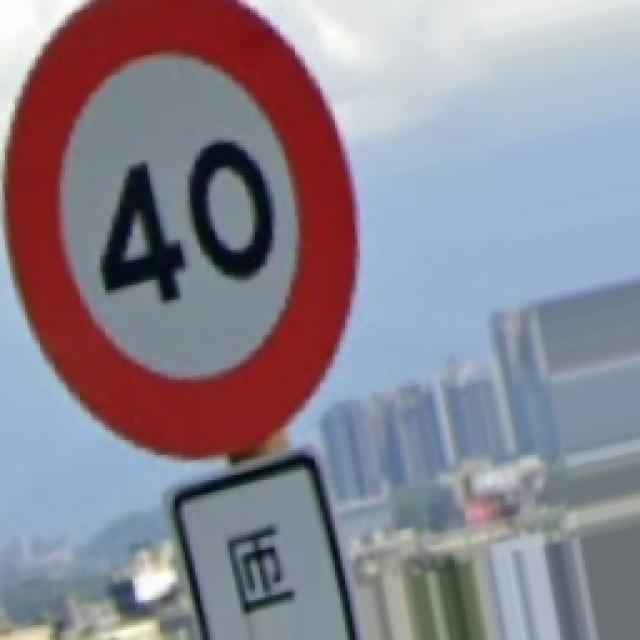Speed Limit -40-: (5, 0, 355, 455)
